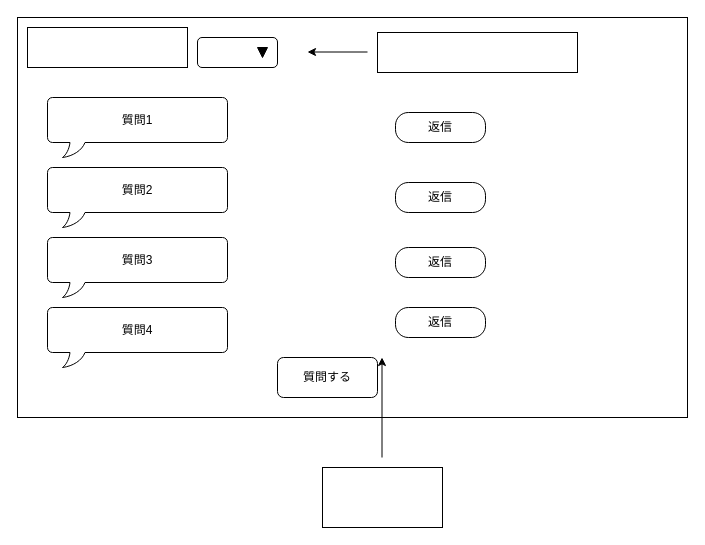
Image size: 705x545. Some labels were removed from this diagram. Here are the shapes that lost their labels. From the top down, the centre of each, then its label:
(x=107, y=47): 質問箱
(x=237, y=52): 最新順
(x=477, y=52): 質問を並べ替えできるように 新しいものからや古いものからなど
(x=382, y=497): コメントされた件数なども表示
